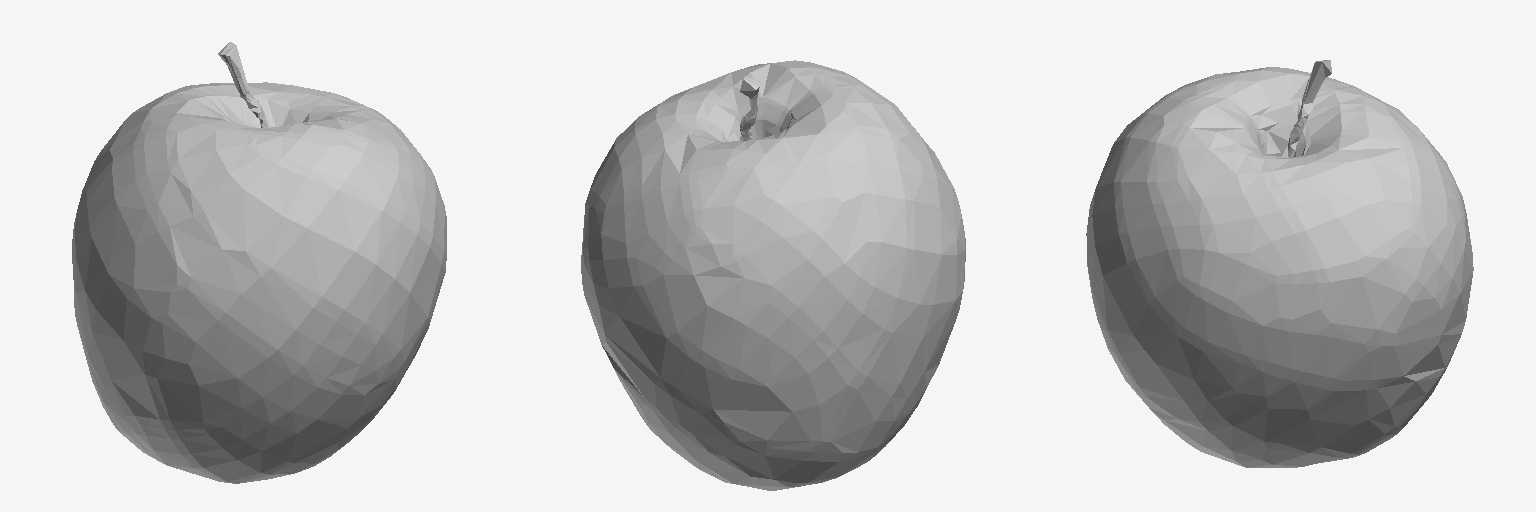
Rendered from appleSmall.obj.
3 views of the same model, side by side, from view 1: azimuth 30°, elevation 25°; view 2: azimuth 150°, elevation 25°; view 3: azimuth 270°, elevation 25° (orthographic).
Visible parts, largest first — view 1: apple:objapple; view 2: apple:objapple; view 3: apple:objapple.
Boxes of the visible parts, x1=… form: apple:objapple: x1=72, y1=42, x2=446, y2=483; apple:objapple: x1=581, y1=60, x2=965, y2=490; apple:objapple: x1=1086, y1=60, x2=1473, y2=467.
Size of the model in its own units: 1.94 by 2.23 by 2.